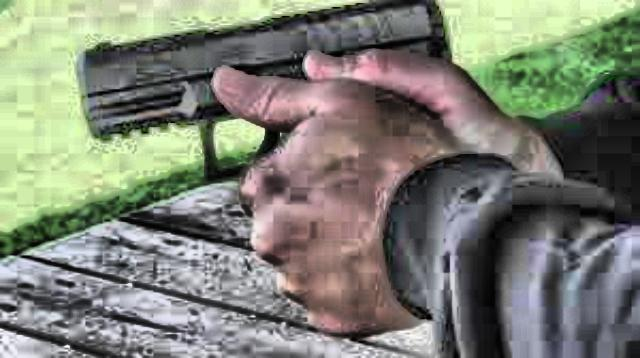pistol: (58, 0, 464, 172)
